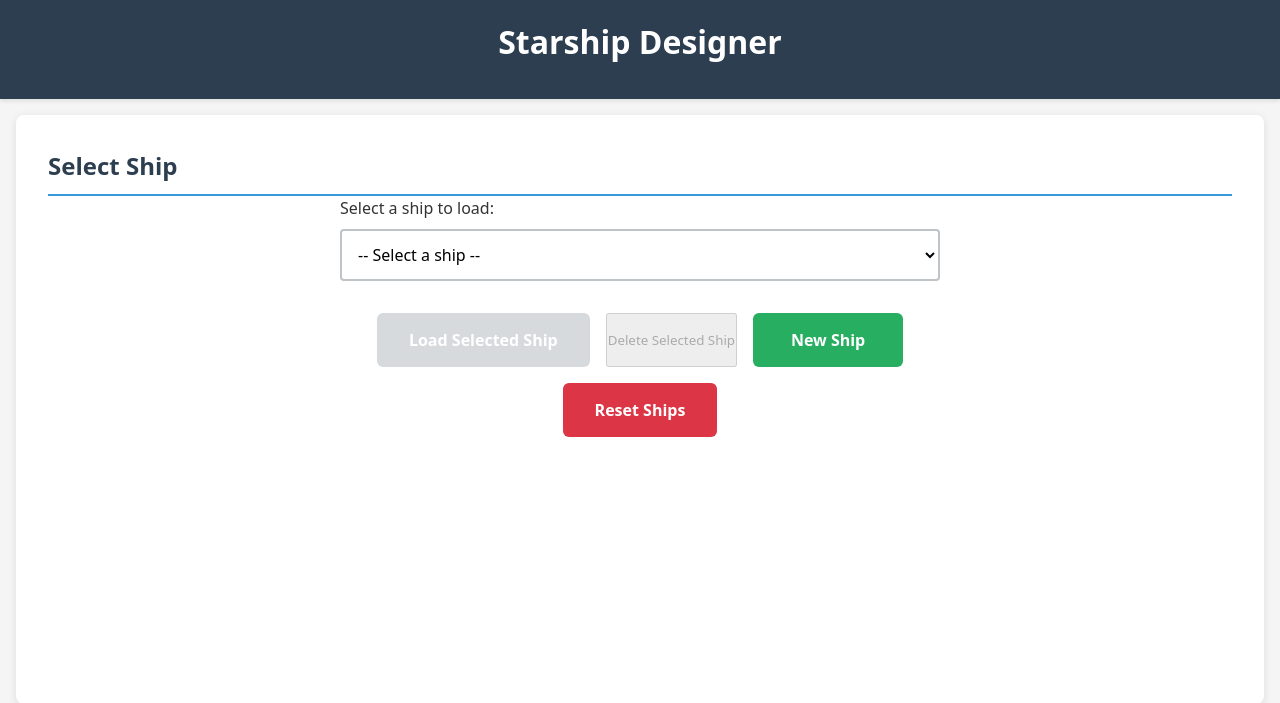
Scenario: App › header shows ship name after entering name and advancing beyond panel 0
Click the button "New Ship" at (828, 340), box top-left (753, 313), bottom-right (903, 367)
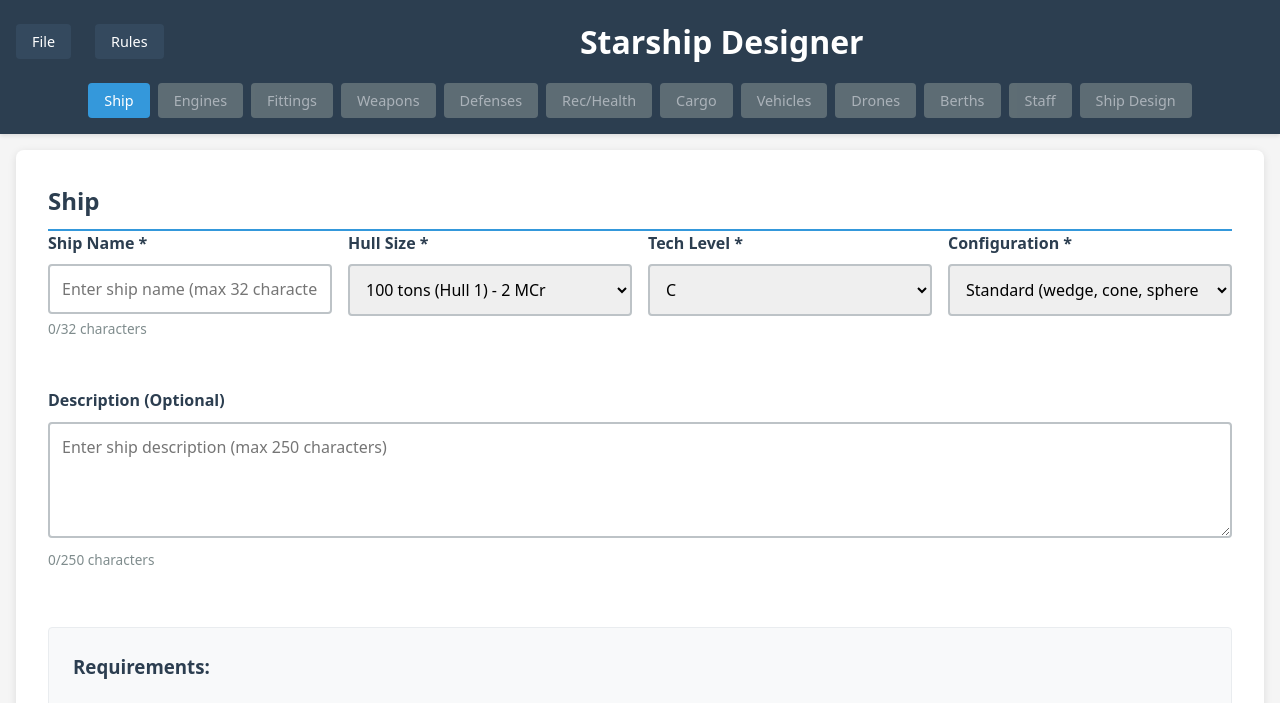
Type "Nightwing" into the field labelled "Ship Name *" at (190, 289), box top-left (48, 264), bottom-right (332, 314)
(page scrolled)
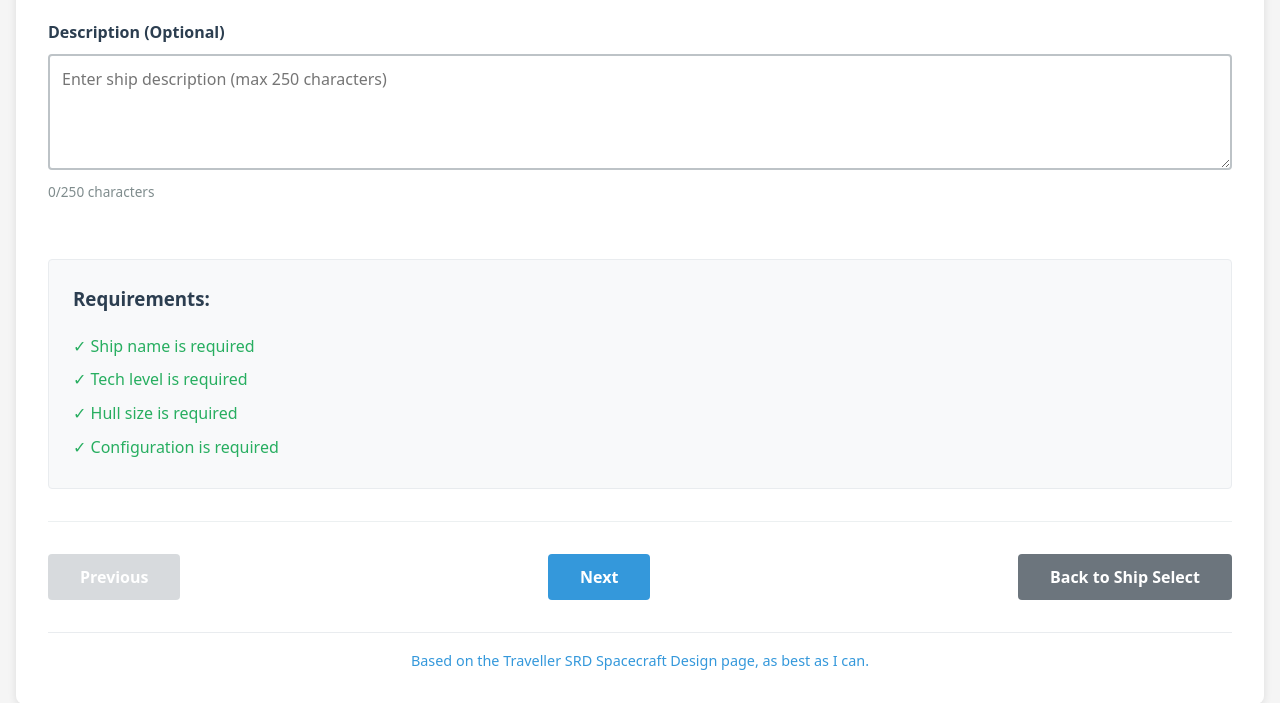
Panel 0 is valid now — navigate to panel 1
Click the button "Next" at (599, 577), box top-left (548, 554), bottom-right (650, 600)
(page scrolled)
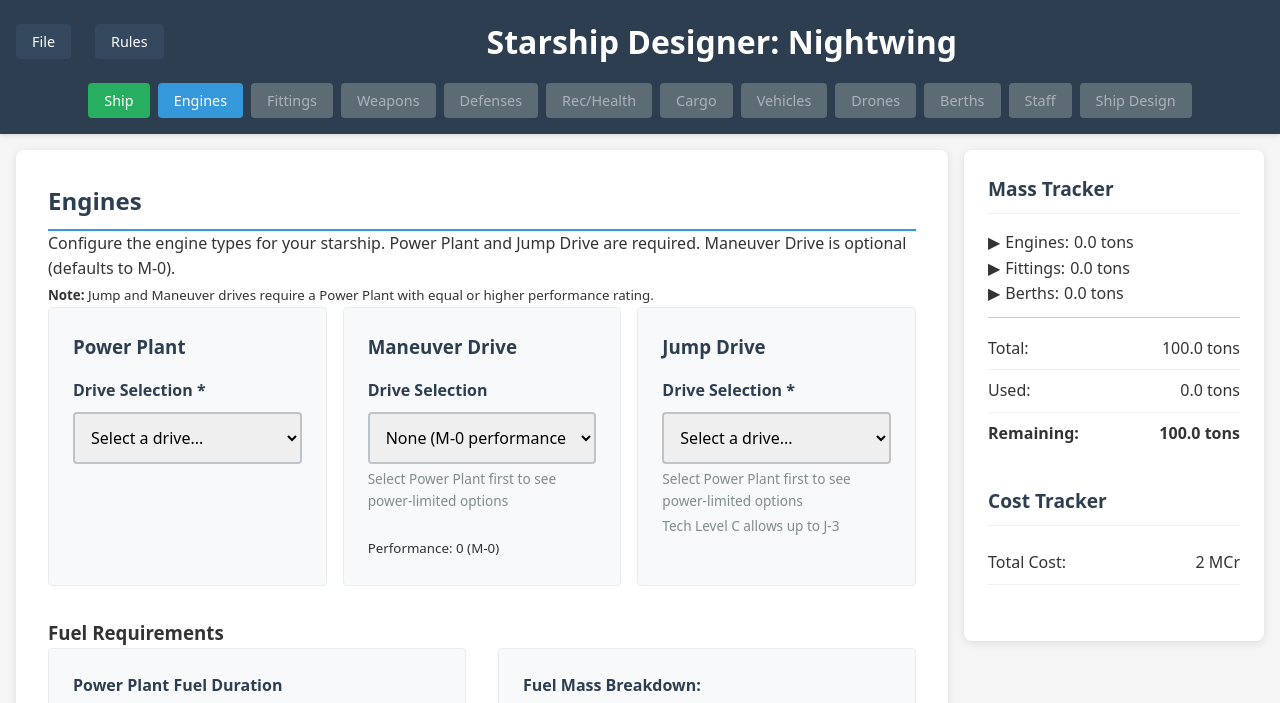
Check: the heading "Starship Designer: Nightwing" is shown, box top-left (487, 20), bottom-right (957, 63)
